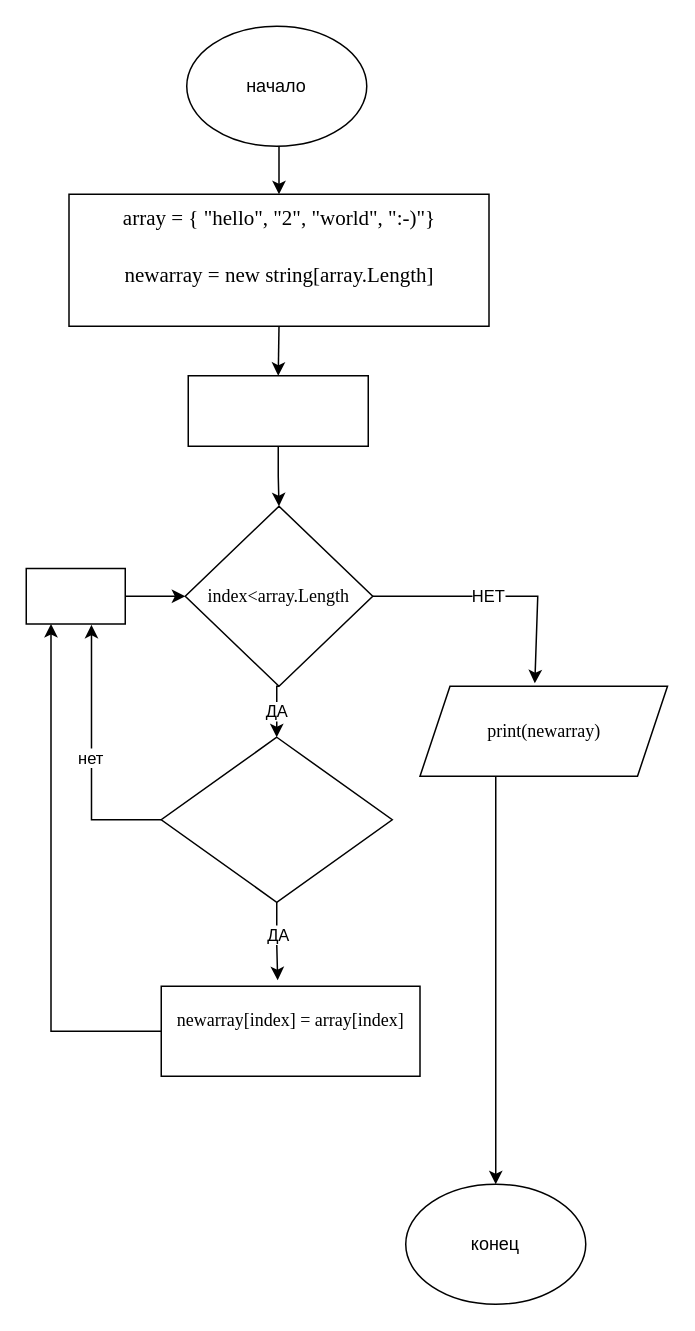
The diagram is 695 pixels wide and 1331 high, and some of its shapes have lost their labels. Each missing label, with the centre of its shape:
array[index].Lenght <=3 ?: the point at 276,819
index =0: the point at 277,410
index++: the point at 75,595
